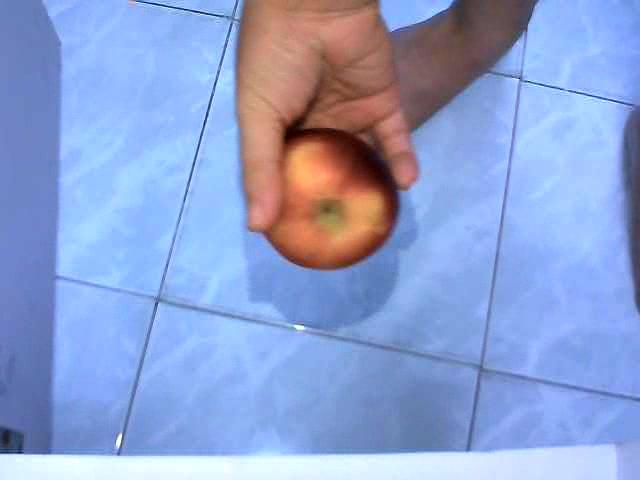apple: (265, 128, 398, 271)
